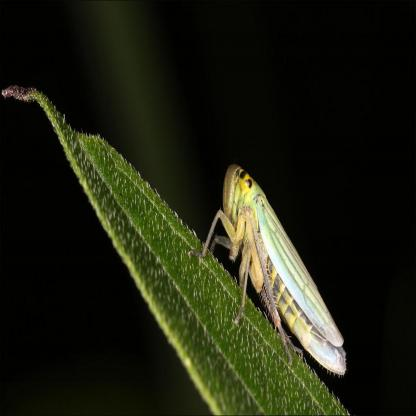Green-Leafhopper: (199, 162, 349, 378)
